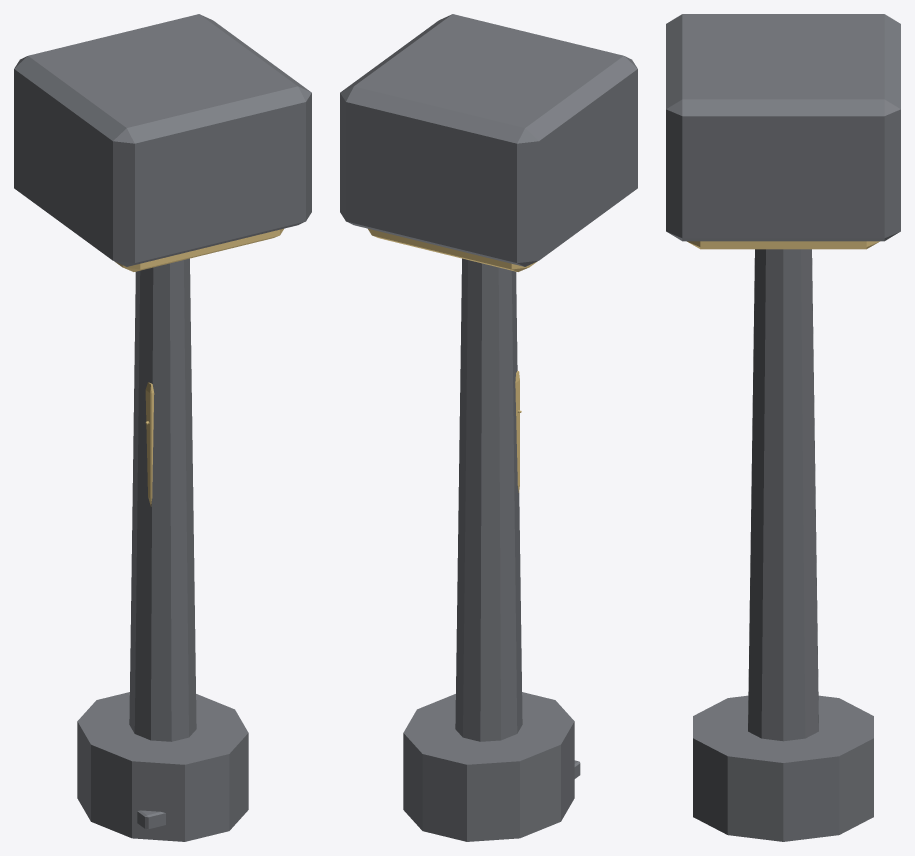
The model's file is b18_four_face_town_clock.glb.
3 renders of one model, left to right at view 1: azimuth 30°, elevation 25°; view 2: azimuth 150°, elevation 25°; view 3: azimuth 270°, elevation 25°, orthographic. The views are drawn at different scales.
Parts seen in each view (by area): view 1: b18_four_face_town_clock; view 2: b18_four_face_town_clock; view 3: b18_four_face_town_clock.
Boxes of the visible parts, x1=… form: b18_four_face_town_clock: x1=14, y1=14, x2=311, y2=841; b18_four_face_town_clock: x1=340, y1=14, x2=637, y2=841; b18_four_face_town_clock: x1=666, y1=14, x2=900, y2=841.
Size of the model in its own units: 1.28 by 4.51 by 1.28.
